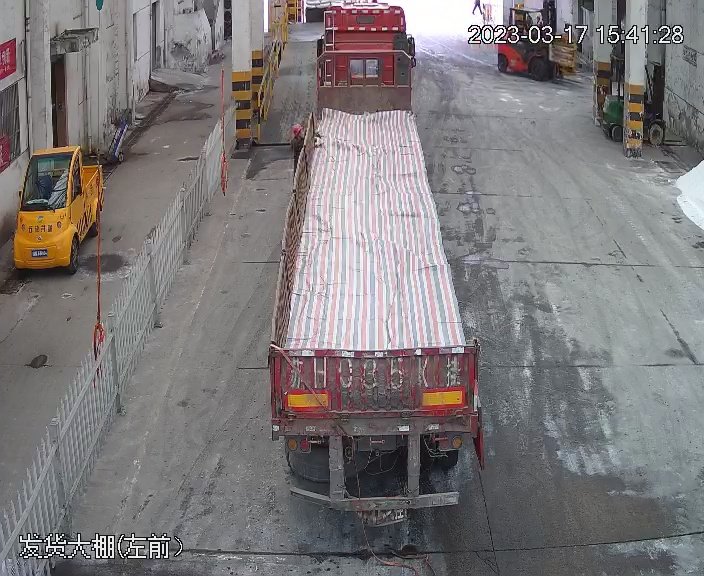truck: (258, 5, 491, 541)
